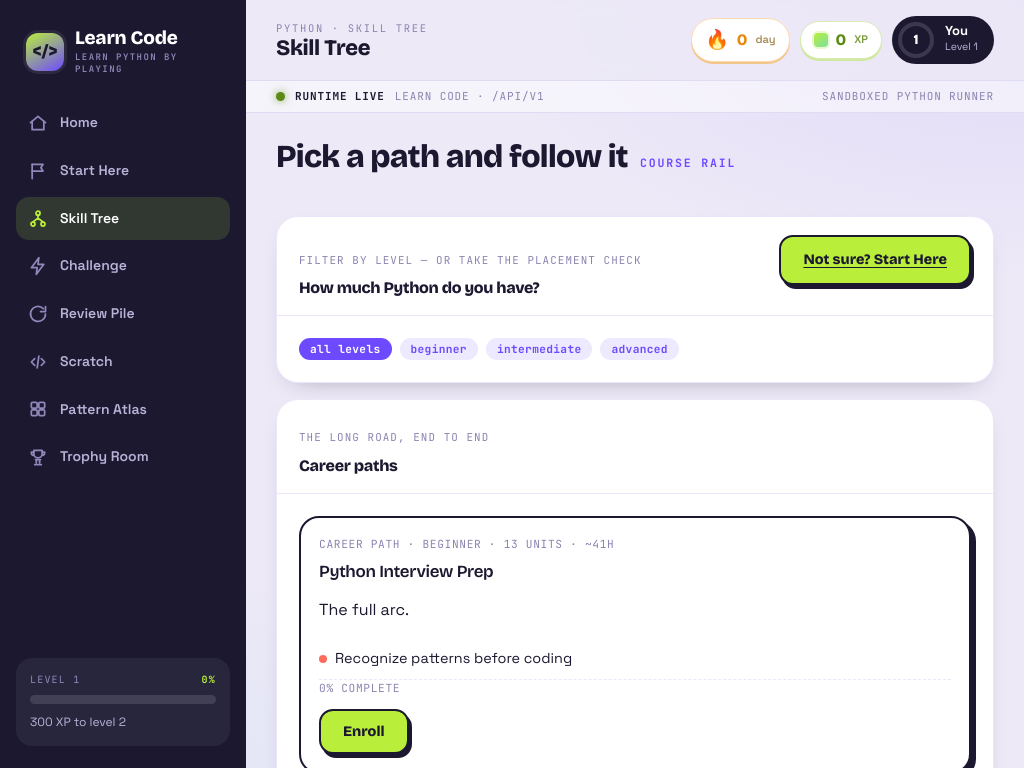
Test: PathsRoute › filters the catalog by competence level
The width and height of the screenshot is (1024, 768).
Expected: the link "Python Interview Prep" is shown, [319,561,493,582]
Click the button "beginner". click: (439, 350)
box: [400,338,478,360]
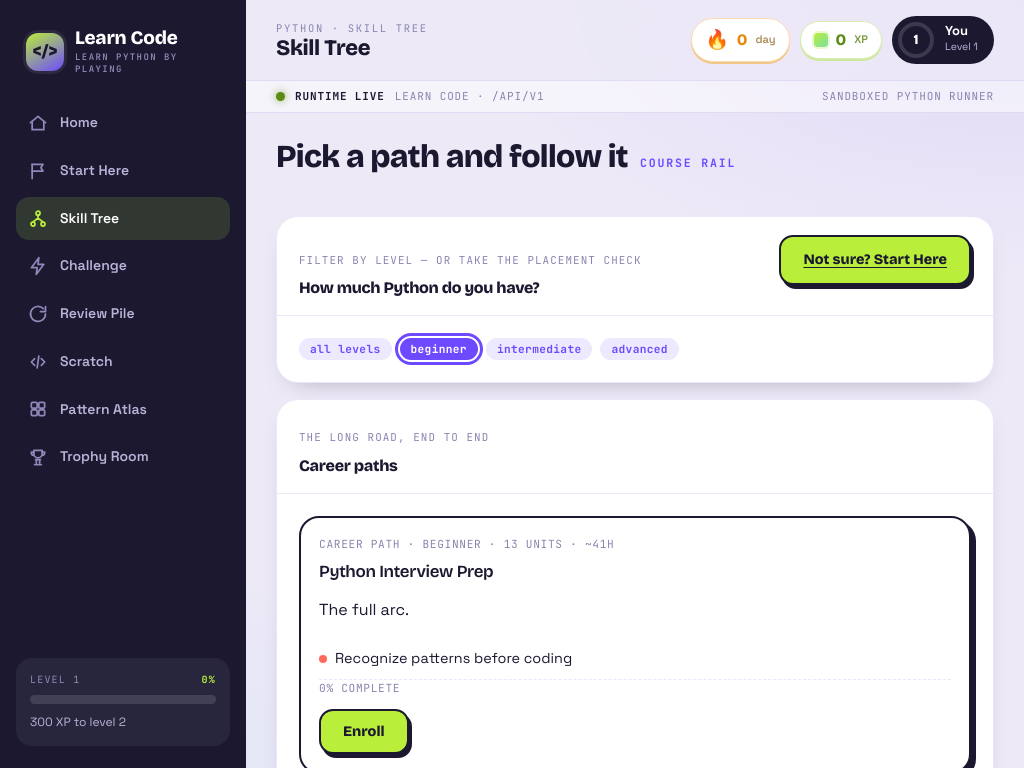
Expected: the link "Python Interview Prep" is shown, [319,561,493,582]
Click the button "intermediate". click: (539, 350)
box: [486,338,592,360]
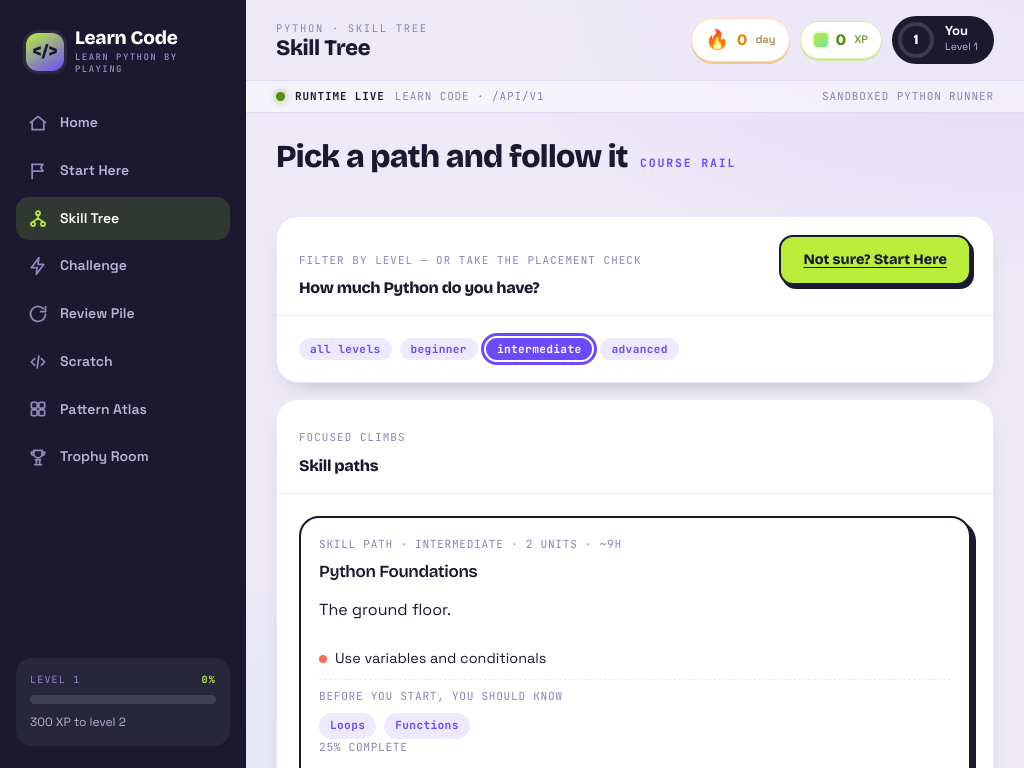
Now the link "Python Interview Prep" is gone
Now the link "Python Foundations" is shown, box [319,561,477,582]
